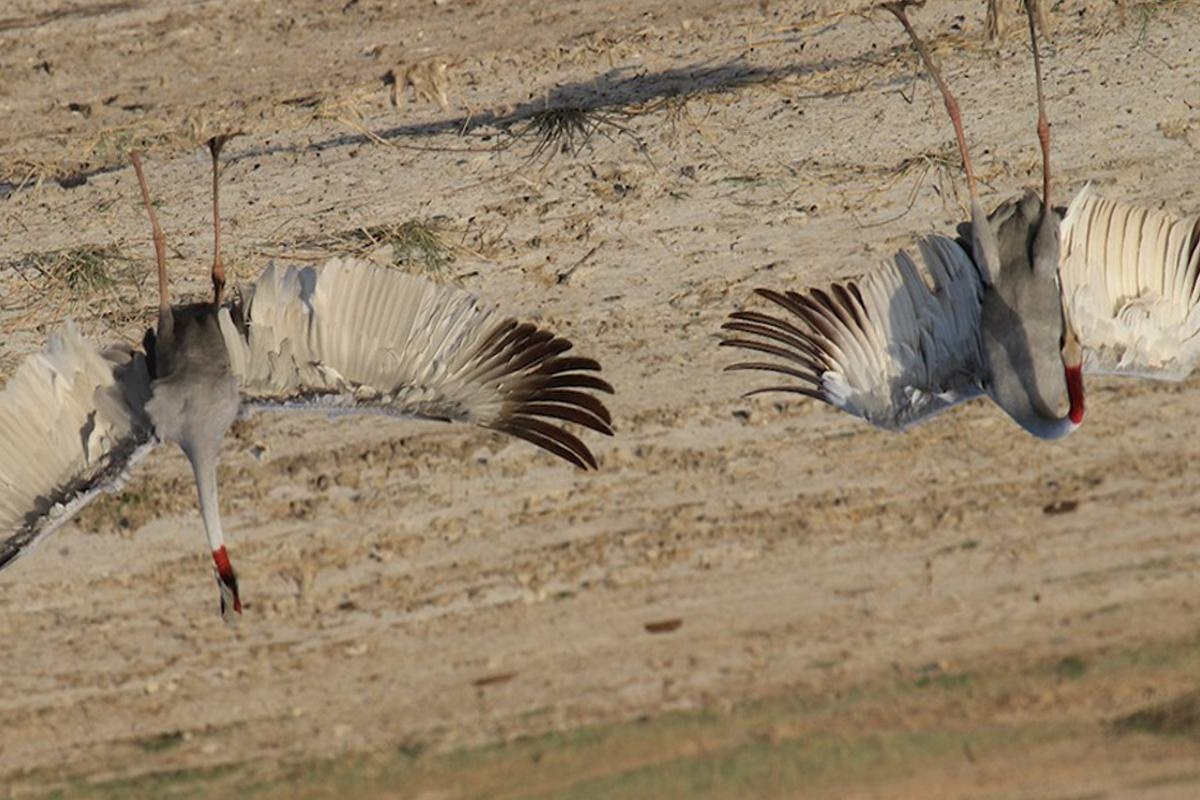crane: (1, 133, 624, 623), (717, 64, 1200, 451)
